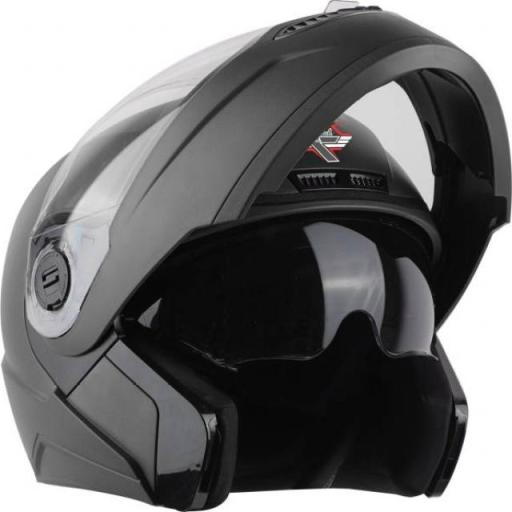Helmet: (2, 2, 510, 509)
